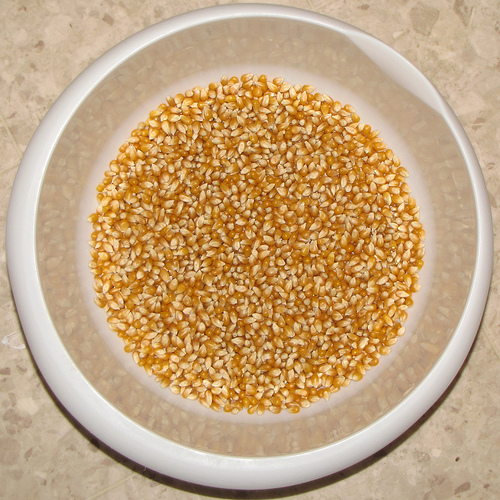corn: (85, 75, 427, 417)
